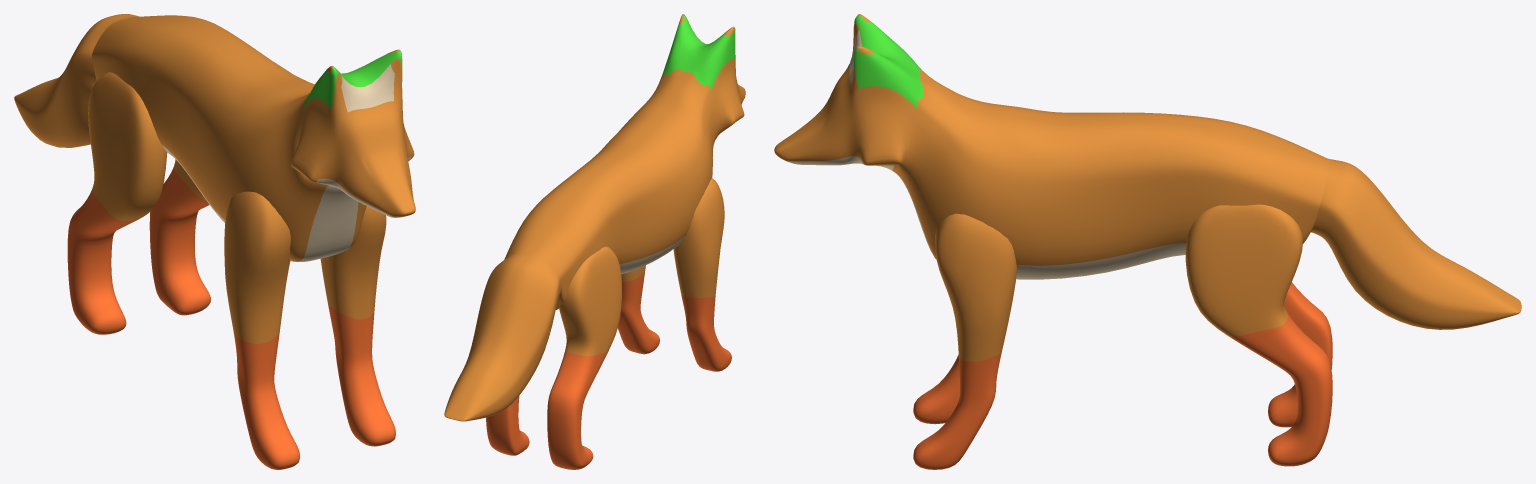
Rendered from higher_poly_fox_wit_da_texutes_and_no_brim_smily_face.fbx.
3 views of the same model, side by side, from view 1: azimuth 30°, elevation 25°; view 2: azimuth 150°, elevation 25°; view 3: azimuth 270°, elevation 25° (orthographic). The views are drawn at different scales.
Visible parts, largest first — view 1: fox body, back left.001, front left.001, front left, back left; view 2: fox body, back left.001, front left.001, front left, back left; view 3: fox body, back left, front left, back left.001, front left.001.
Boxes of the visible parts, <box> form: fox body: <box>14,14,415,261</box>; back left.001: <box>67,72,167,334</box>; front left.001: <box>224,191,299,469</box>; front left: <box>320,206,395,446</box>; back left: <box>149,159,210,315</box>; fox body: <box>444,14,745,421</box>; back left.001: <box>547,246,621,469</box>; front left.001: <box>673,178,731,371</box>; front left: <box>618,265,659,354</box>; back left: <box>486,396,529,455</box>; fox body: <box>774,14,1521,329</box>; back left: <box>1185,204,1332,466</box>; front left: <box>913,213,1016,469</box>; back left.001: <box>1268,282,1332,427</box>; front left.001: <box>913,355,960,424</box>.
Bounding box in the file's own units: 145 × 409 × 670.
